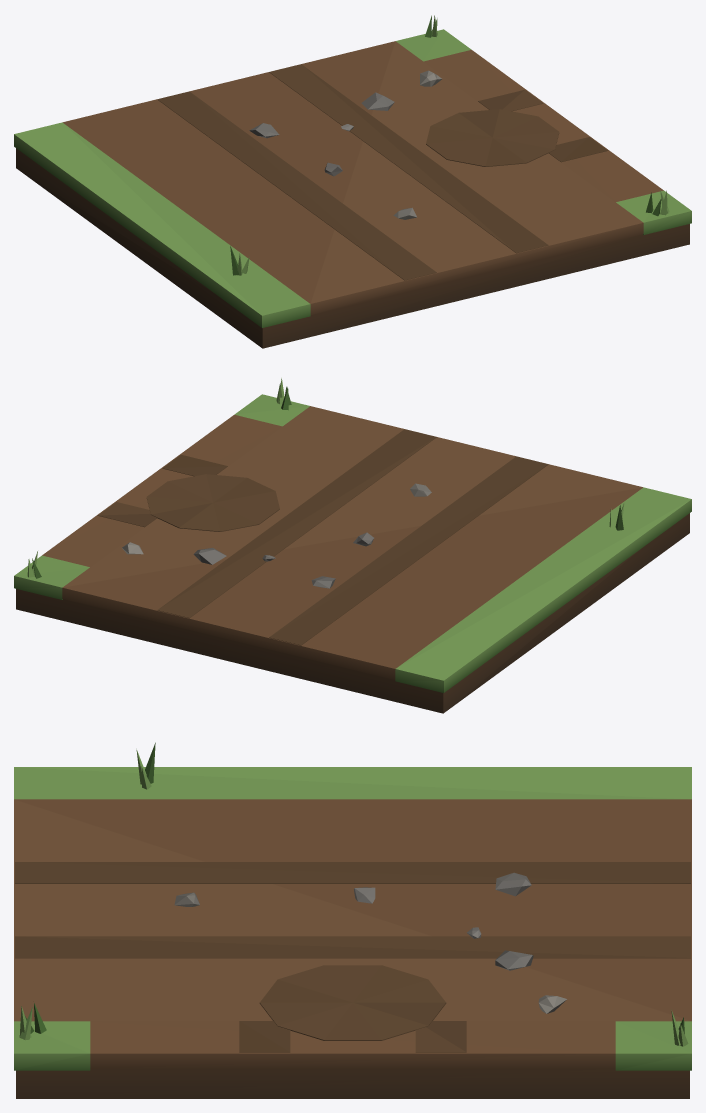
Rendered from road-dirt-t.glb.
3 views of the same model, one above another, from view 1: azimuth 30°, elevation 25°; view 2: azimuth 150°, elevation 25°; view 3: azimuth 270°, elevation 25° (orthographic). The views are drawn at different scales.
Parts seen in each view (by area): view 1: road_dirt_t; view 2: road_dirt_t; view 3: road_dirt_t.
Part boxes in pixels (x1,y1,x2,y2): road_dirt_t: (14, 15, 691, 348); road_dirt_t: (14, 378, 691, 713); road_dirt_t: (14, 742, 691, 1098).
Bounding box in the file's own units: 4 × 0.5493 × 4.
